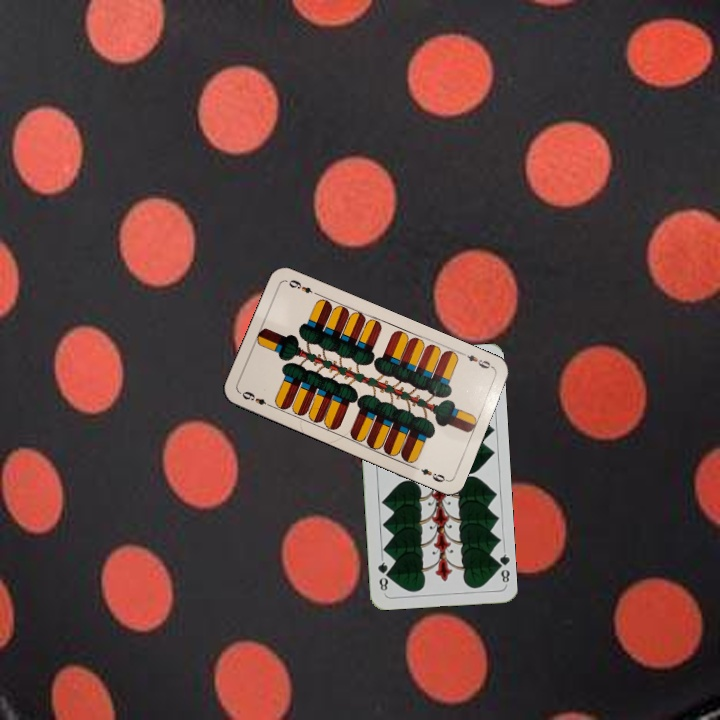E9: (238, 387, 275, 410), (458, 349, 496, 371)
G8: (491, 546, 512, 587)
